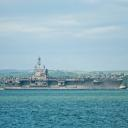Portanaves: (4, 52, 126, 92)
